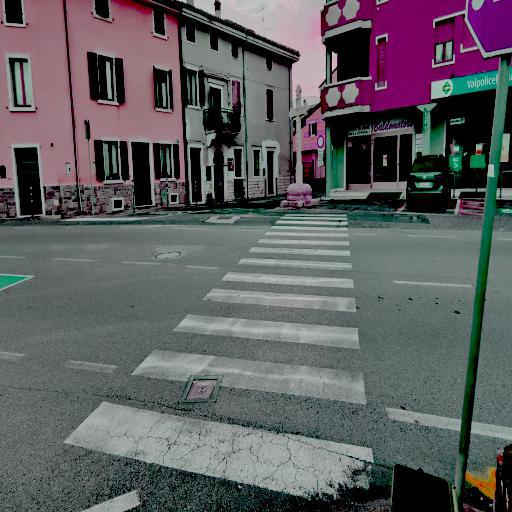crosswalk: (172, 285, 364, 355), (236, 244, 354, 274)
